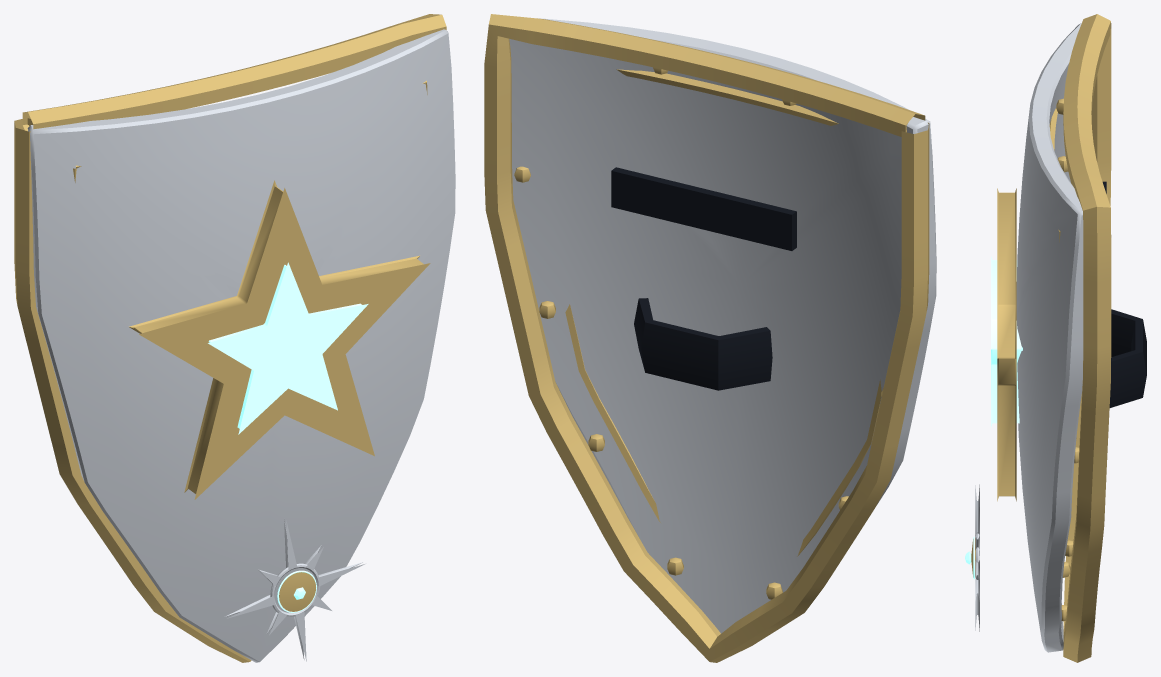
The model's file is esc_last_crown_marshal_shield.glb.
3 views of the same model, side by side, from view 1: azimuth 30°, elevation 25°; view 2: azimuth 150°, elevation 25°; view 3: azimuth 270°, elevation 25° (orthographic). The views are drawn at different scales.
Parts seen in each view (by area): view 1: esc_last_crown_marshal_shield; view 2: esc_last_crown_marshal_shield; view 3: esc_last_crown_marshal_shield.
Boxes of the visible parts, bbox=[...] form: esc_last_crown_marshal_shield: bbox=[14, 14, 455, 662]; esc_last_crown_marshal_shield: bbox=[484, 14, 936, 662]; esc_last_crown_marshal_shield: bbox=[965, 14, 1146, 662].
Bounding box in the file's own units: 0.636 × 0.8354 × 0.2478.
